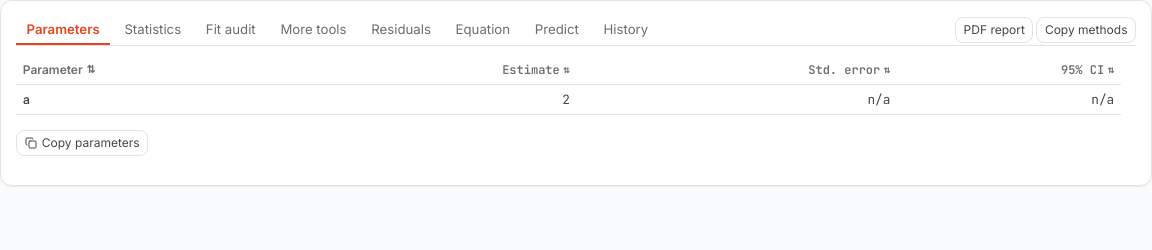
Test: PDF report export › shows an inline error and re-enables the button when generation fails
Click the button "PDF report": point(994, 30) top-left (955, 17), bottom-right (1033, 43)
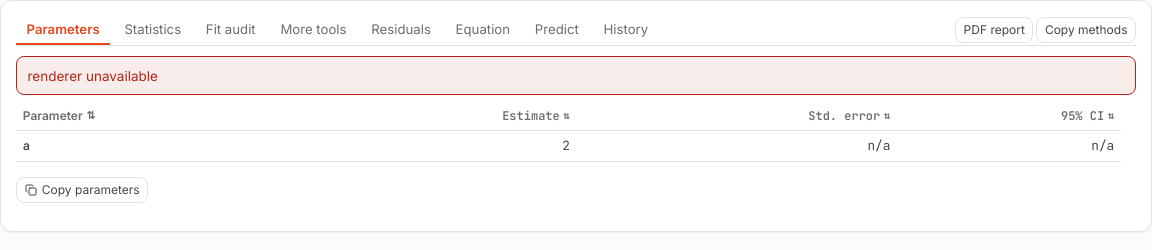
Expected: the message reads "renderer unavailable", top-left (28, 68), bottom-right (158, 84)
